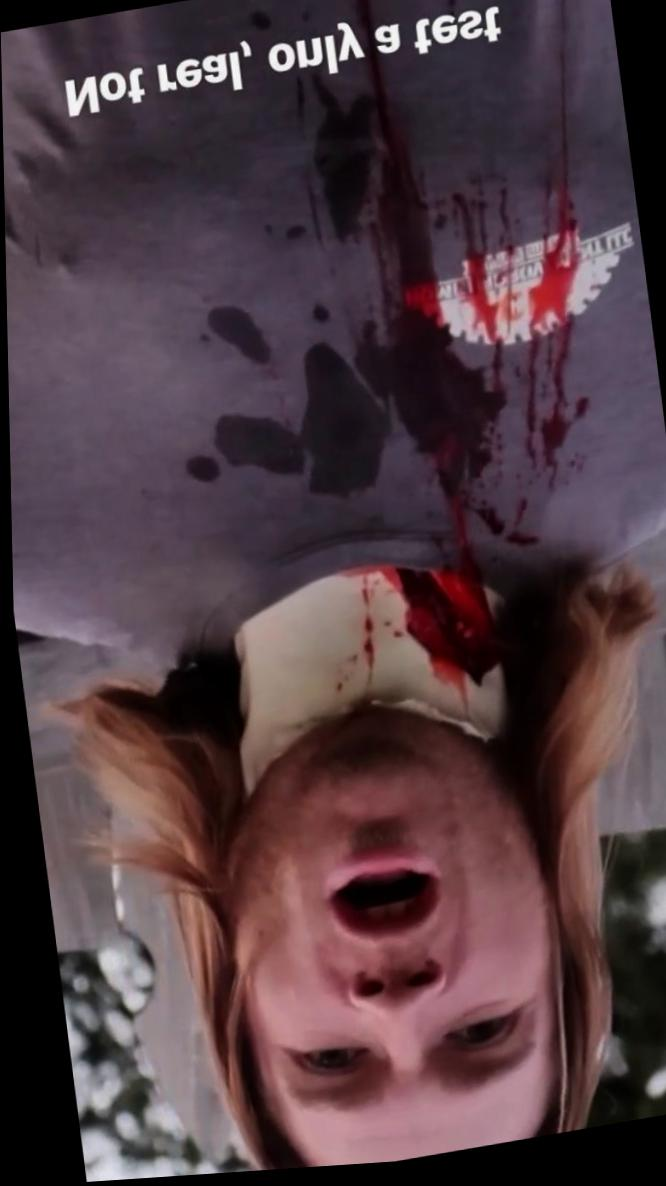Fire: (312, 0, 630, 703)
